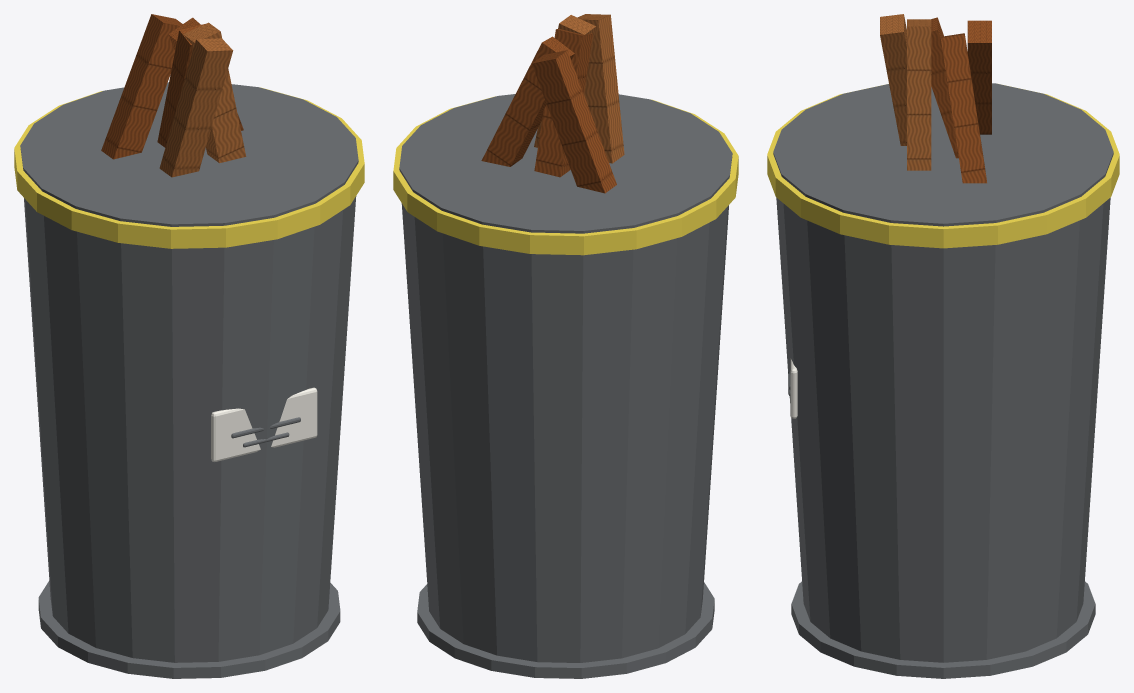
The model's file is woodworking-workshop-and-joinery-woodworking-workshop--b38b5972__34273.glb.
3 renders of one model, left to right at view 1: azimuth 30°, elevation 25°; view 2: azimuth 150°, elevation 25°; view 3: azimuth 270°, elevation 25°, orthographic.
Parts seen in each view (by area): view 1: woodworking-workshop-and-joinery-workshop-bin; view 2: woodworking-workshop-and-joinery-workshop-bin; view 3: woodworking-workshop-and-joinery-workshop-bin.
Part boxes in pixels (x1,y1,x2,y2): woodworking-workshop-and-joinery-workshop-bin: (14, 14, 364, 678); woodworking-workshop-and-joinery-workshop-bin: (393, 14, 738, 678); woodworking-workshop-and-joinery-workshop-bin: (767, 14, 1119, 678).
Bounding box in the file's own units: 0.58 × 1.08 × 0.58.
5 materials, 2 textured.
